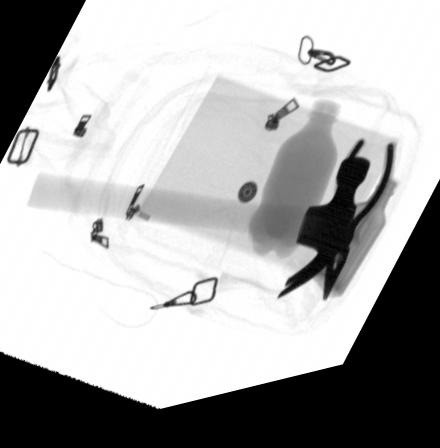Hammer: (25, 173, 371, 312)
Pliers: (323, 156, 392, 318)
